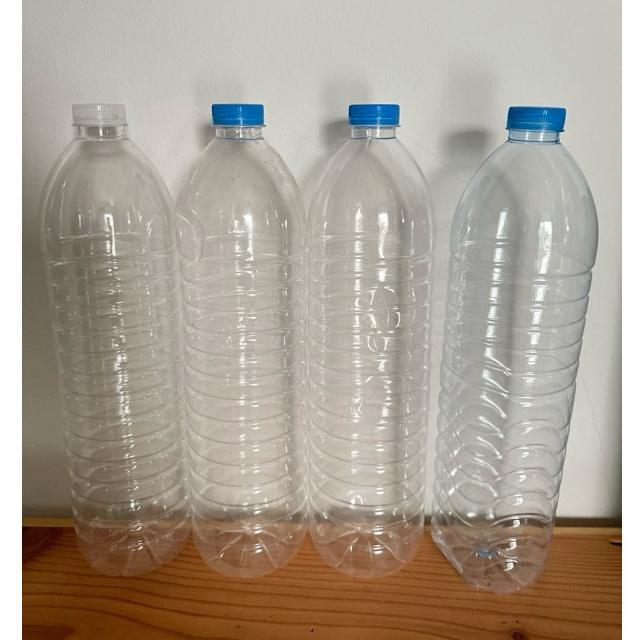PET Bottle: (430, 79, 594, 598), (24, 76, 194, 570), (162, 96, 312, 580), (308, 95, 442, 583)
